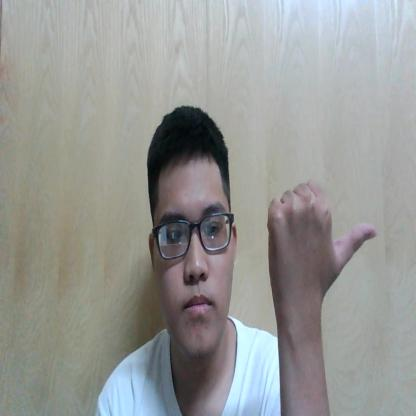left: (263, 175, 380, 315)
